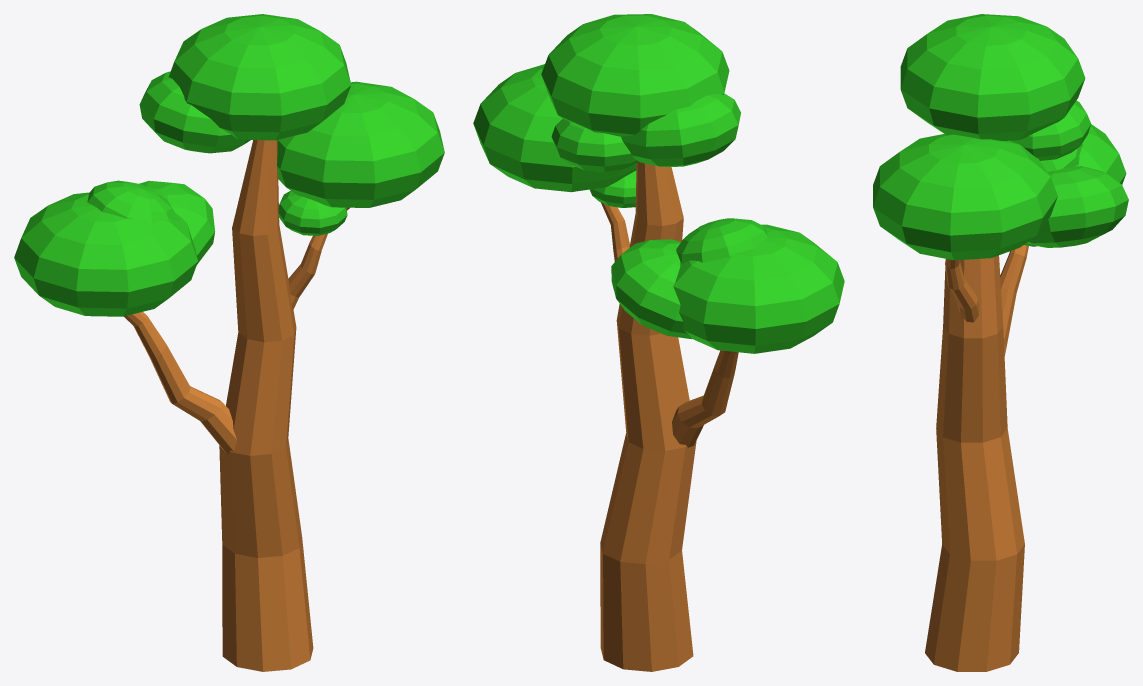
File: Tree4.fbx
3 views of the same model, side by side, from view 1: azimuth 30°, elevation 25°; view 2: azimuth 150°, elevation 25°; view 3: azimuth 270°, elevation 25° (orthographic). The views are drawn at different scales.
Visible parts, largest first — view 1: Tree 4; view 2: Tree 4; view 3: Tree 4.
Part boxes in pixels (<box>): Tree 4: <box>14,14,444,671</box>; Tree 4: <box>473,14,844,671</box>; Tree 4: <box>873,14,1128,671</box>.
Size of the model in its own units: 462 by 733 by 271.
